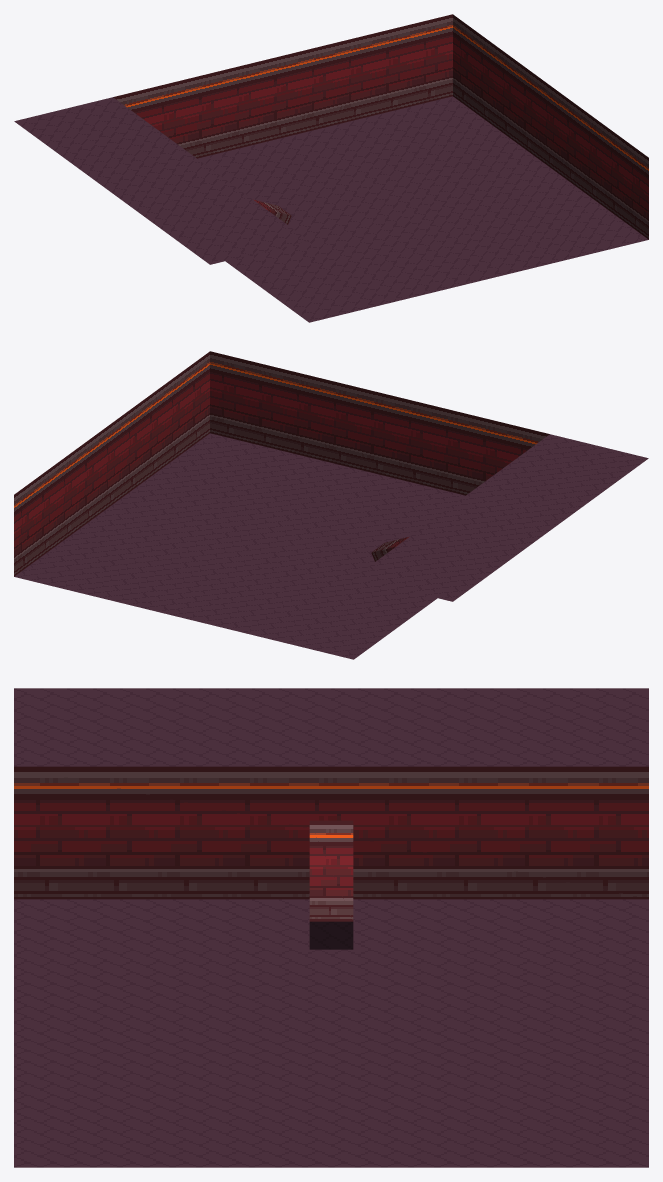
Rendered from dungeon.glb.
The picture shows the model from 3 angles, top to bottom: view 1: azimuth 30°, elevation 25°; view 2: azimuth 150°, elevation 25°; view 3: azimuth 270°, elevation 25°; orthographic projection. The views are drawn at different scales.
Parts seen in each view (by area): view 1: Plane; view 2: Plane; view 3: Plane.
Part boxes in pixels (bbox=[...]): Plane: bbox=[14, 14, 648, 322]; Plane: bbox=[14, 351, 648, 659]; Plane: bbox=[14, 688, 648, 1167].
Bounding box in the file's own units: 31 × 5.54 × 24.
Materials: 2 (2 with a texture image).
